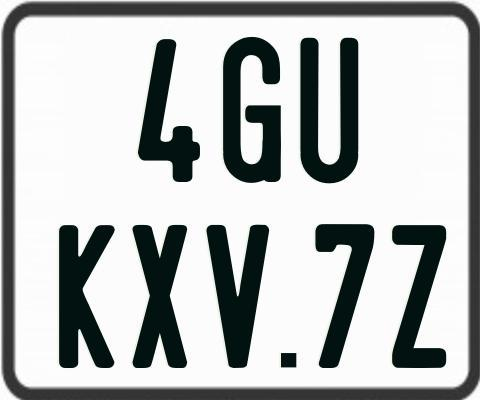4: (137, 37, 204, 184)
7: (314, 223, 376, 370)
G: (221, 35, 279, 184)
K: (58, 222, 116, 368)
U: (299, 38, 360, 184)
V: (204, 224, 270, 371)
X: (133, 223, 190, 367)
Z: (389, 222, 448, 367)
